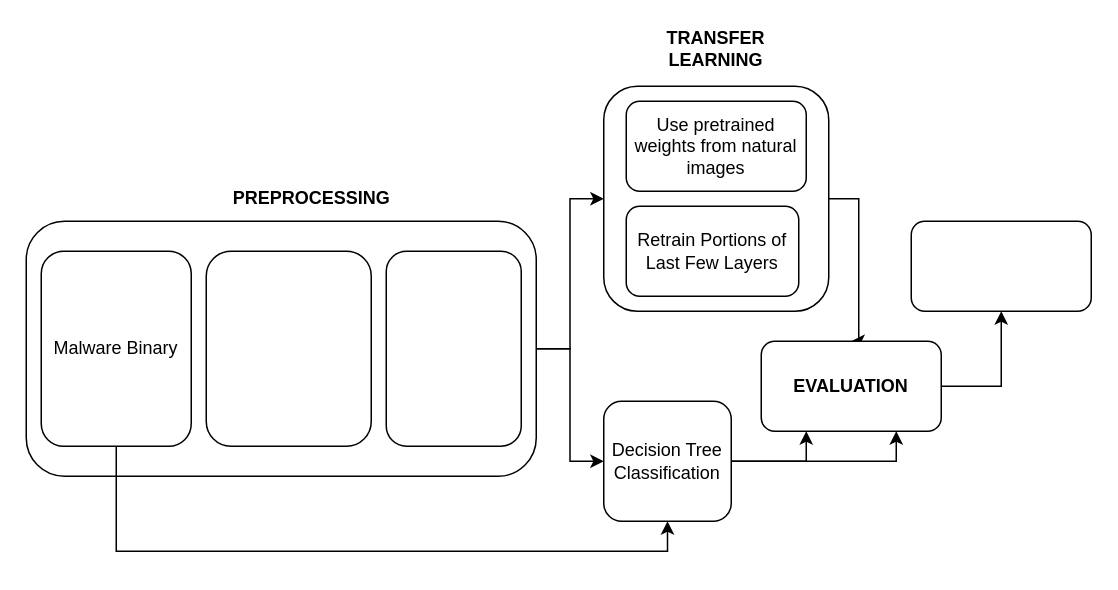
The diagram is 1118 pixels wide and 590 high, and some of its shapes have lost their labels. The centre of each missing label's shape, as x and y in pixels:
"INTERPRETATION" goes at point 1000,265.
"Pixel Conversion" goes at point 288,348.
"Reshaping and Resizing" goes at point 453,348.
